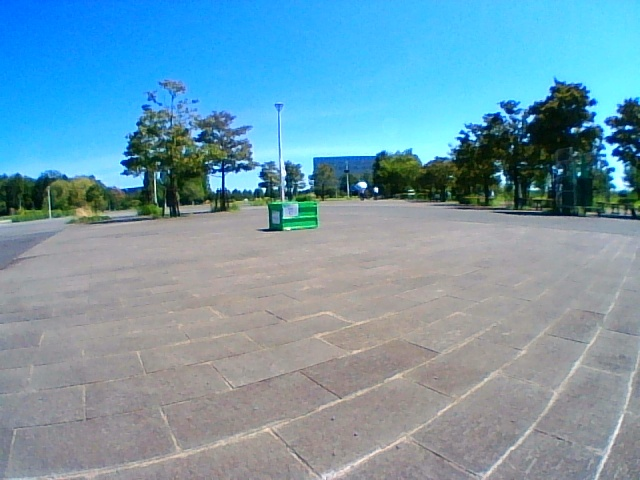green_box: (269, 201, 318, 230)
tag: (283, 204, 297, 218)
